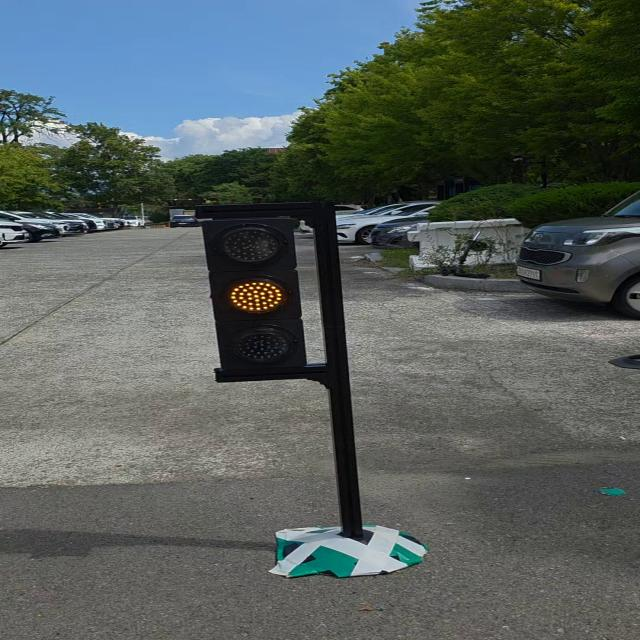yellow: (193, 216, 317, 379)
